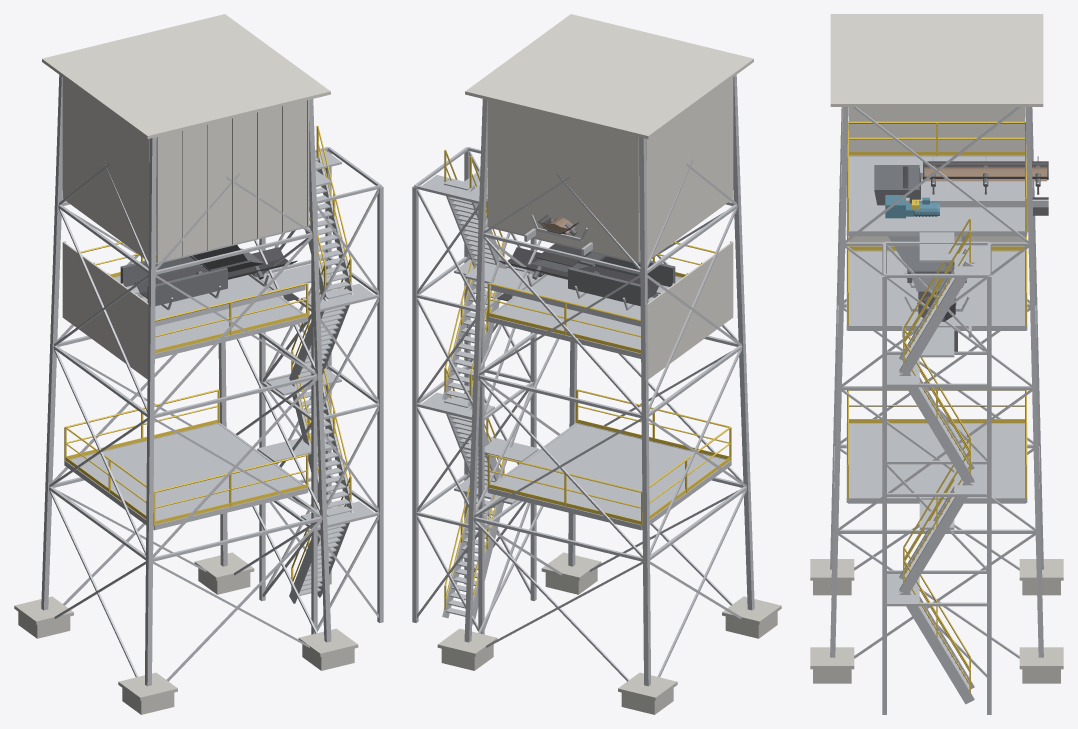
File: ore-processing-and-haulage-plant-conveyor-transfer-tow-7adea84b.glb
The picture shows the model from 3 angles, left to right: view 1: azimuth 30°, elevation 25°; view 2: azimuth 150°, elevation 25°; view 3: azimuth 270°, elevation 25°; orthographic projection.
Parts seen in each view (by area): view 1: conveyor-transfer-tower; view 2: conveyor-transfer-tower; view 3: conveyor-transfer-tower.
Boxes of the visible parts, left/top/right/bottom form: conveyor-transfer-tower: left=14, top=14, right=383, bottom=714; conveyor-transfer-tower: left=412, top=14, right=781, bottom=714; conveyor-transfer-tower: left=810, top=14, right=1063, bottom=714.
Bounding box in the file's own units: 9.3 × 18.1 × 7.26.
